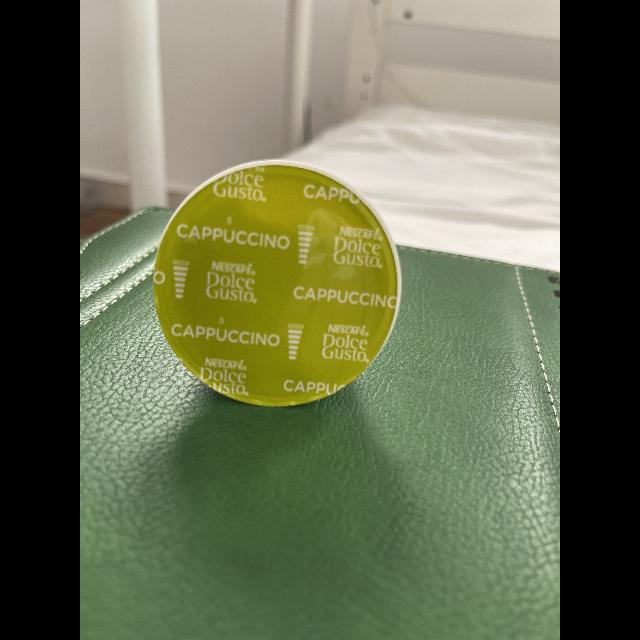intact_capsule: (142, 155, 412, 429)
